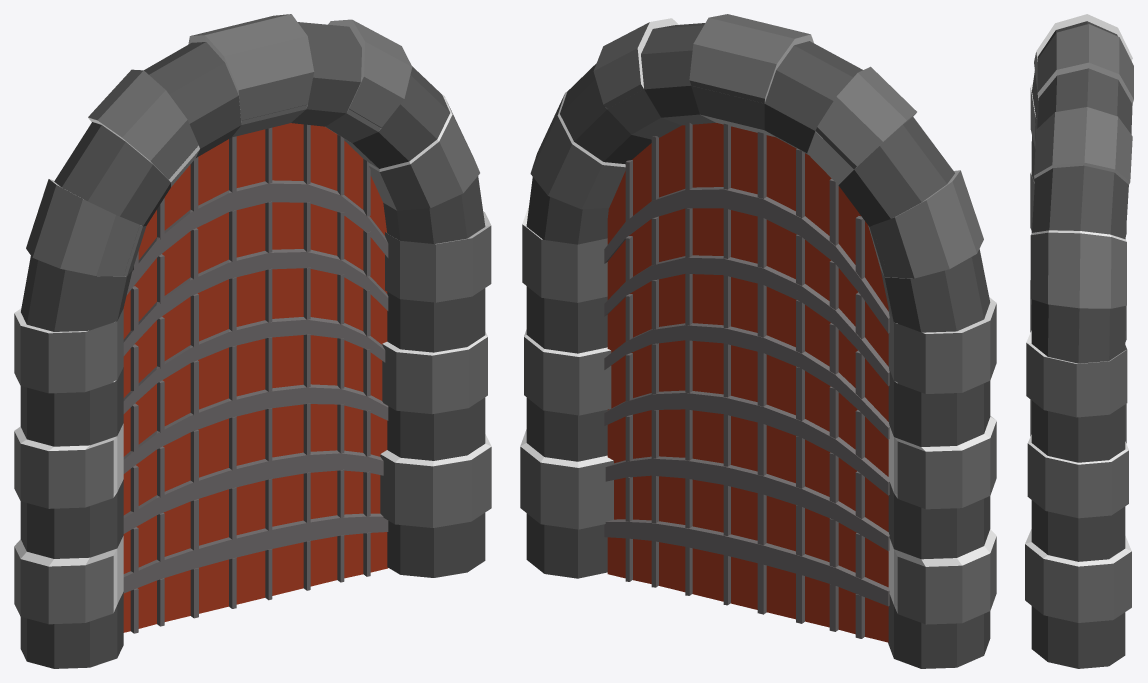
File: дверь.fbx
The picture shows the model from 3 angles, left to right: view 1: azimuth 30°, elevation 25°; view 2: azimuth 150°, elevation 25°; view 3: azimuth 270°, elevation 25°; orthographic projection. The views are drawn at different scales.
Visible parts, largest first — view 1: Torus, Torus.002; view 2: Torus, Torus.002; view 3: Torus.
Boxes of the visible parts, x1,y1,x2,y2 form: Torus: (14,14,491,668); Torus.002: (123,123,388,633); Torus: (520,14,996,668); Torus.002: (604,122,889,642); Torus: (1025,14,1133,668).
Bounding box in the file's own units: 254 × 303 × 56.41.
